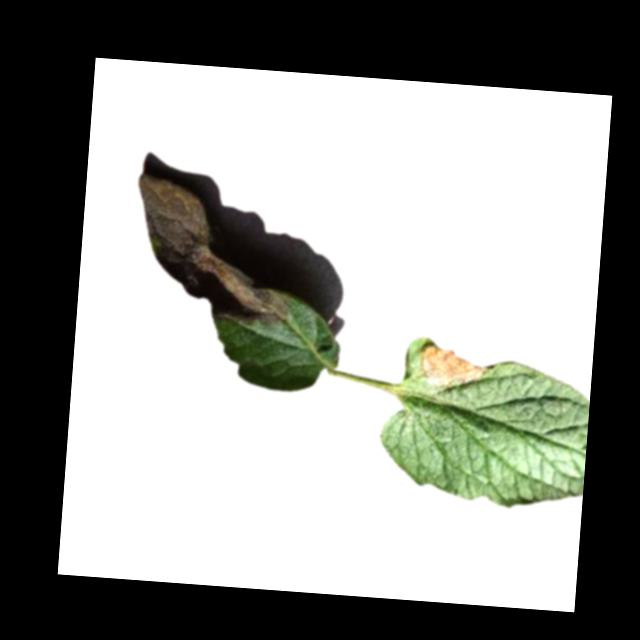Late_blight: (127, 174, 301, 330), (417, 340, 486, 386)
